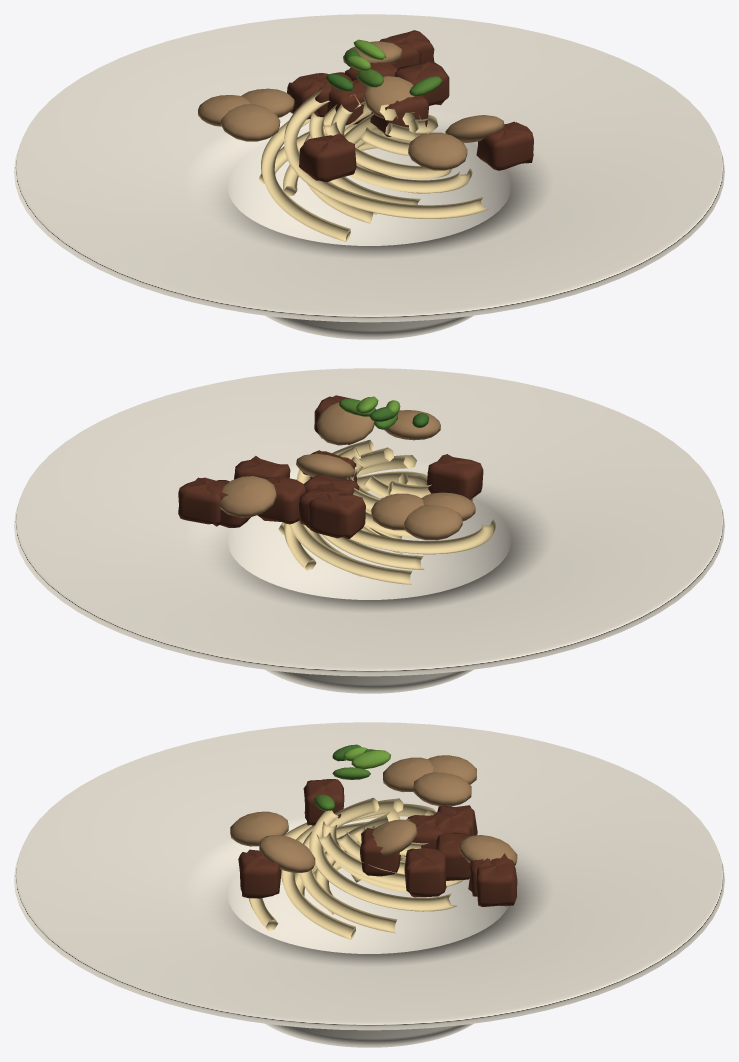
File: fettuccine-funghi-mignon.glb
The picture shows the model from 3 angles, top to bottom: view 1: azimuth 30°, elevation 25°; view 2: azimuth 150°, elevation 25°; view 3: azimuth 270°, elevation 25°; orthographic projection.
Visible parts, largest first — view 1: fettuccine-funghi-mignon; view 2: fettuccine-funghi-mignon; view 3: fettuccine-funghi-mignon.
Boxes of the visible parts, left/top/right/bottom form: fettuccine-funghi-mignon: left=14, top=14, right=724, bottom=339; fettuccine-funghi-mignon: left=14, top=368, right=724, bottom=693; fettuccine-funghi-mignon: left=14, top=722, right=724, bottom=1047.
Bounding box in the file's own units: 0.28 × 0.1056 × 0.28.
